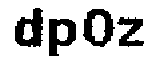0: (81, 4, 114, 50)
d: (7, 6, 44, 50)
p: (45, 13, 78, 60)
z: (115, 16, 147, 49)
